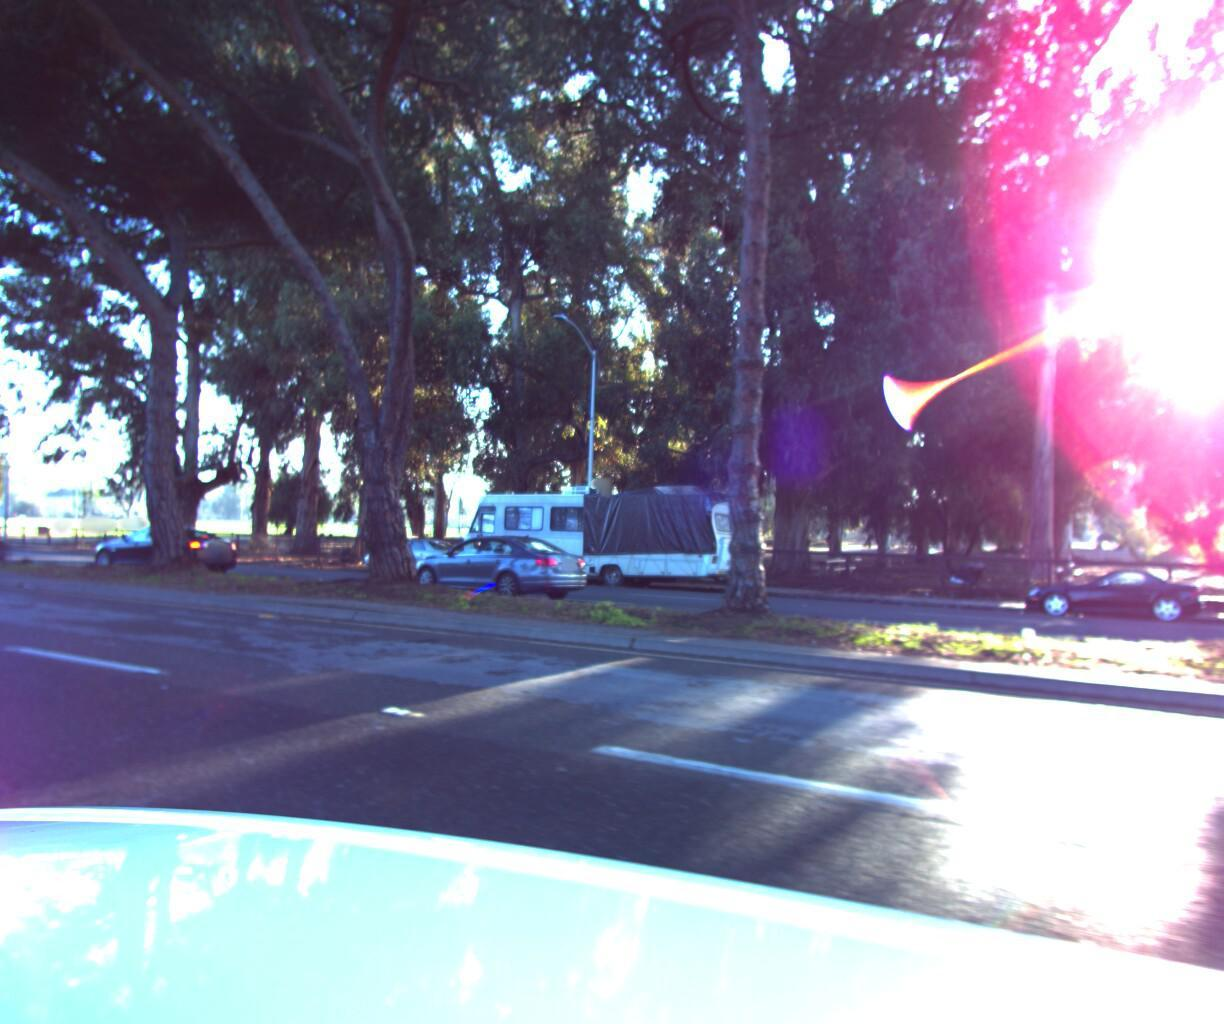car: (405, 526, 596, 605), (1012, 558, 1204, 623), (86, 518, 238, 573), (355, 530, 480, 574), (0, 516, 3, 543)
other_vehicle: (452, 475, 750, 591)
